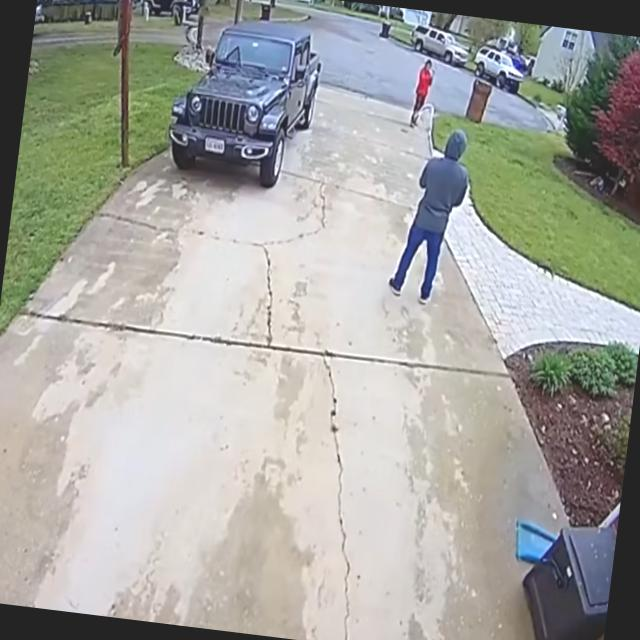person: (386, 120, 474, 307), (408, 56, 436, 130)
